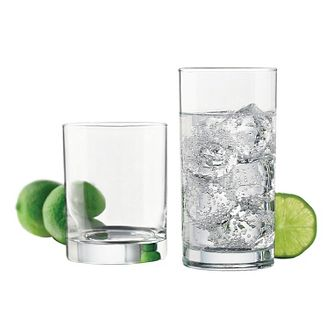Nonrec_Glass: (175, 56, 281, 277), (61, 111, 168, 272)
